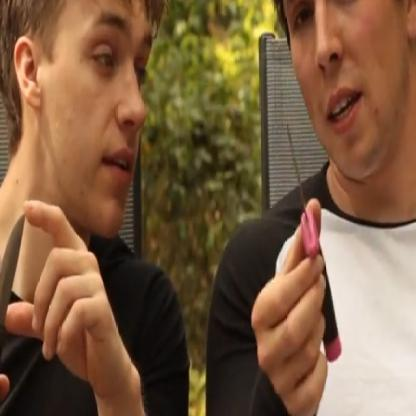knife: (272, 101, 347, 390), (0, 189, 37, 415)
